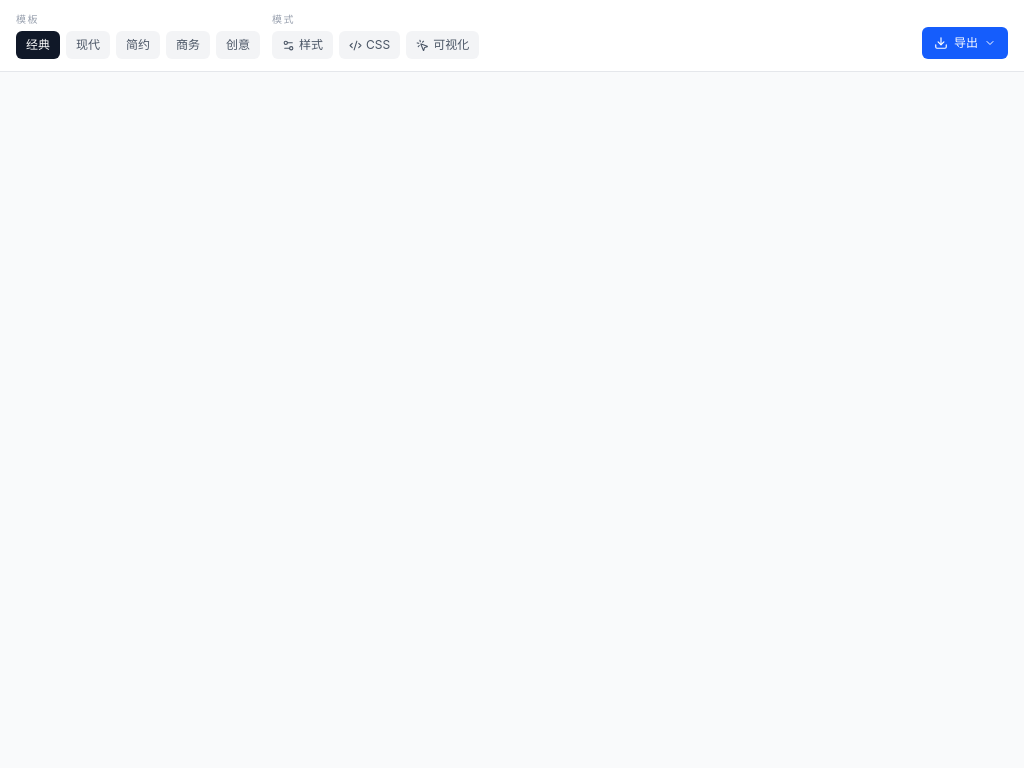
Toolbar style drawer › closes the export menu on outside pointer interaction
Click the button "导出": (965, 43) [922,27,1008,59]
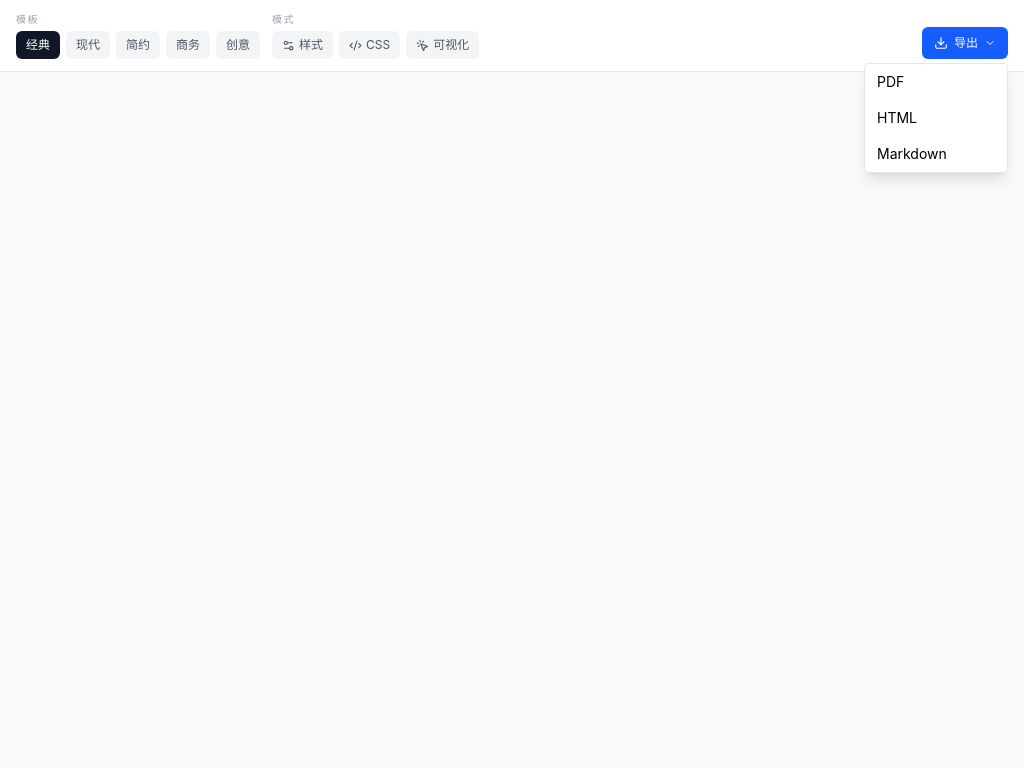
Now the button "PDF" is shown, box [865,64,1007,100]
Press the mouse on the element showing "模板 经典 现代 简约 商务 创意 模式 样式 CSS 可视化 导出 PDF HTML Markdown": (512, 384) [0,0,1023,767]
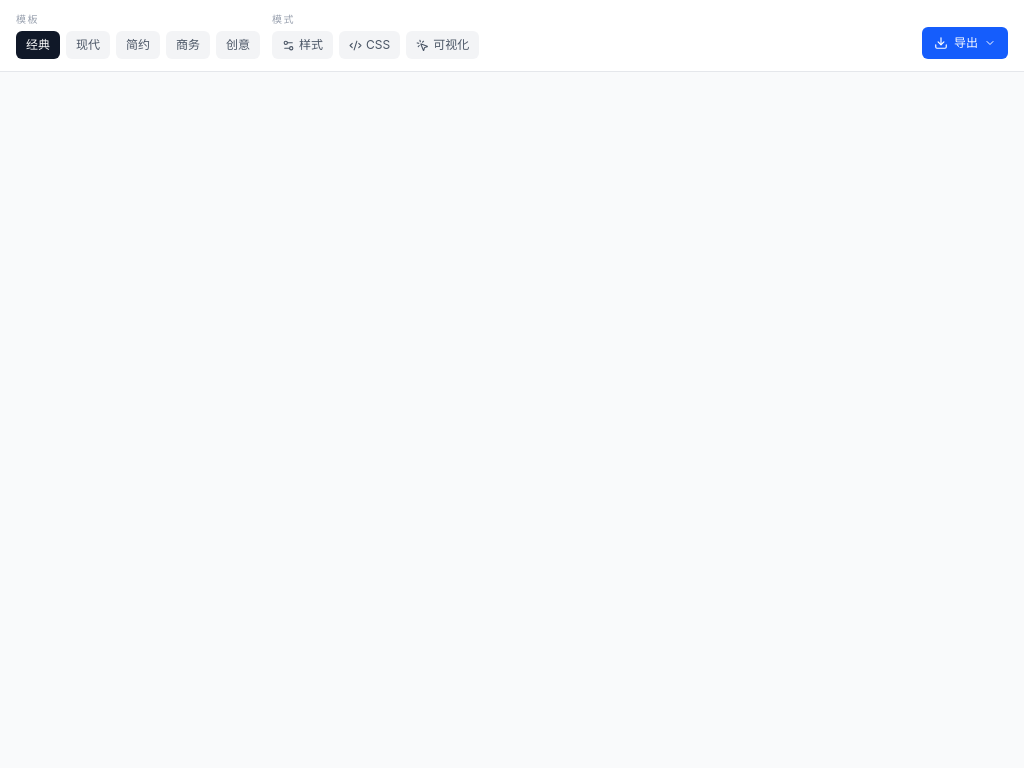
Now the button "PDF" is gone
